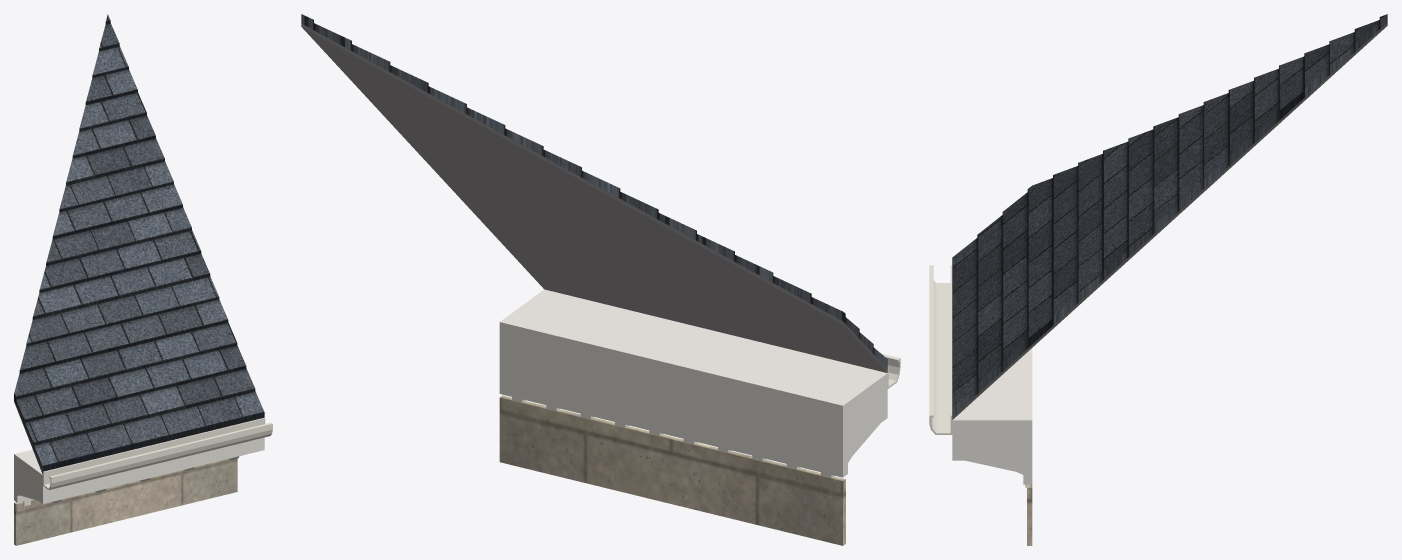
The model's file is roof_l1.glb.
3 renders of one model, left to right at view 1: azimuth 30°, elevation 25°; view 2: azimuth 150°, elevation 25°; view 3: azimuth 270°, elevation 25°, orthographic. The views are drawn at different scales.
Visible parts, largest first — view 1: roof_l1_shingles, roof_l1_stone_t, roof_l1_gutter, roof_l1_trim; view 2: roof_l1_dark, roof_l1_trim, roof_l1_stone_t, roof_l1_shingles; view 3: roof_l1_shingles, roof_l1_trim, roof_l1_gutter, roof_l1_dark.
Boxes of the visible parts, box(x1,y1,x2,y2) form: roof_l1_shingles: box(14, 14, 264, 472); roof_l1_stone_t: box(14, 458, 237, 545); roof_l1_gutter: box(43, 417, 272, 489); roof_l1_trim: box(14, 437, 264, 506); roof_l1_dark: box(301, 23, 887, 372); roof_l1_trim: box(499, 289, 887, 477); roof_l1_stone_t: box(499, 395, 845, 545); roof_l1_shingles: box(301, 14, 887, 368); roof_l1_shingles: box(952, 14, 1387, 416); roof_l1_trim: box(952, 348, 1032, 487); roof_l1_gutter: box(929, 265, 952, 434); roof_l1_dark: box(952, 23, 1387, 419).
Size of the model in its own units: 2 by 3.3 by 2.58.
Materials: 5 (2 with a texture image).
